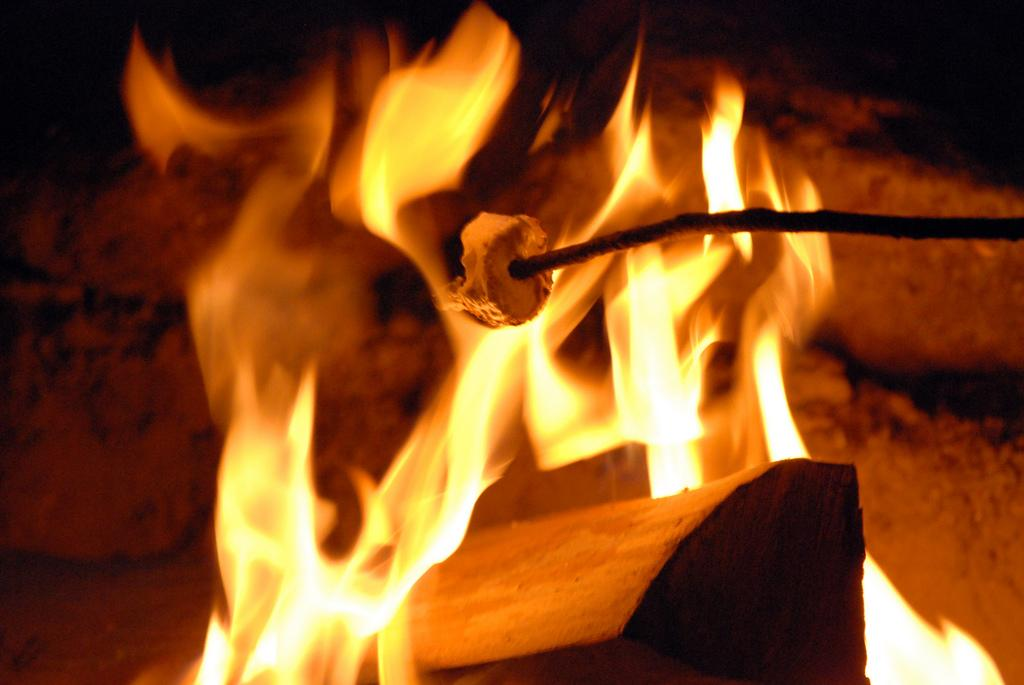fire: (222, 420, 318, 675), (348, 72, 497, 197), (455, 333, 593, 457), (620, 282, 695, 473)
